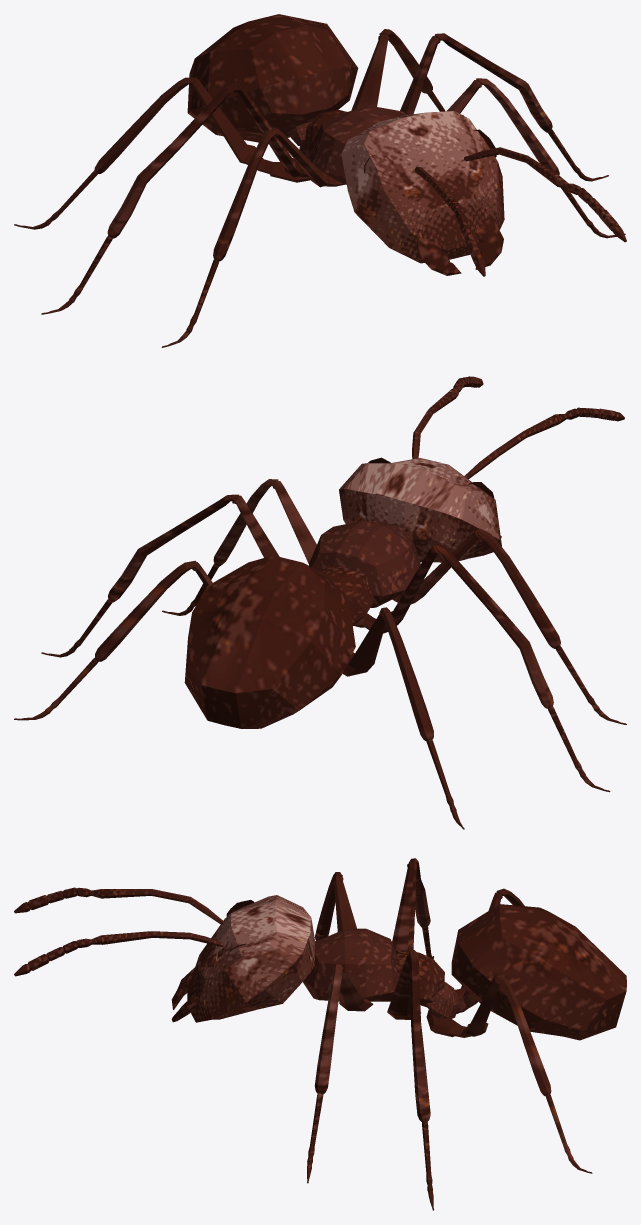
File: enemyWorkerAnt.fbx
The picture shows the model from 3 angles, top to bottom: view 1: azimuth 30°, elevation 25°; view 2: azimuth 150°, elevation 25°; view 3: azimuth 270°, elevation 25°; orthographic projection. The views are drawn at different scales.
Parts seen in each view (by area): view 1: Head, Abdomen 6, Legs 2, Legs 3, Legs 1, Antenna, Abdomen 1, Mandibles, Abdomen 2; view 2: Abdomen 6, Head, Legs 2, Legs 3, Abdomen 1, Legs 1, Antenna, Abdomen 2; view 3: Abdomen 6, Head, Legs 2, Abdomen 1, Legs 1, Legs 3, Antenna, Abdomen 2, Abdomen 3, Mandibles.
Part boxes in pixels (x1,y1,x2,y2): Head: (341, 111, 504, 263); Abdomen 6: (187, 14, 358, 142); Legs 2: (41, 33, 608, 314); Legs 3: (14, 29, 463, 229); Legs 1: (161, 78, 625, 347); Antenna: (414, 147, 626, 276); Abdomen 1: (309, 106, 406, 184); Mandibles: (416, 217, 503, 275); Abdomen 2: (303, 110, 346, 156); Abdomen 6: (184, 555, 355, 728); Head: (339, 458, 501, 562); Legs 2: (41, 494, 610, 792); Legs 3: (14, 560, 464, 829); Abdomen 1: (309, 521, 420, 607); Legs 1: (162, 479, 626, 724); Antenna: (412, 376, 624, 479); Abdomen 2: (320, 565, 373, 625); Abdomen 6: (451, 904, 626, 1040); Head: (187, 895, 315, 1022); Legs 2: (387, 858, 434, 1210); Abdomen 1: (303, 928, 398, 1001); Legs 1: (307, 872, 373, 1183); Legs 3: (426, 888, 592, 1173); Antenna: (14, 887, 224, 976); Abdomen 2: (395, 949, 444, 1007); Abdomen 3: (426, 982, 459, 1018); Mandibles: (171, 967, 199, 1022).
Bounding box in the file's own units: 997 × 1016 × 327.
